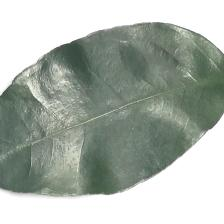healthy: (14, 42, 196, 169)
